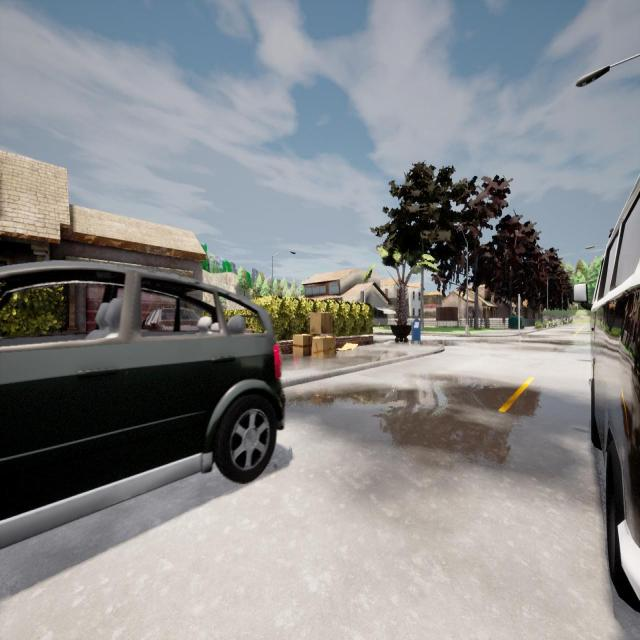Vehicle: (0, 261, 284, 547), (573, 173, 640, 612)
traffic_light: (360, 291, 364, 303), (518, 297, 522, 309)
